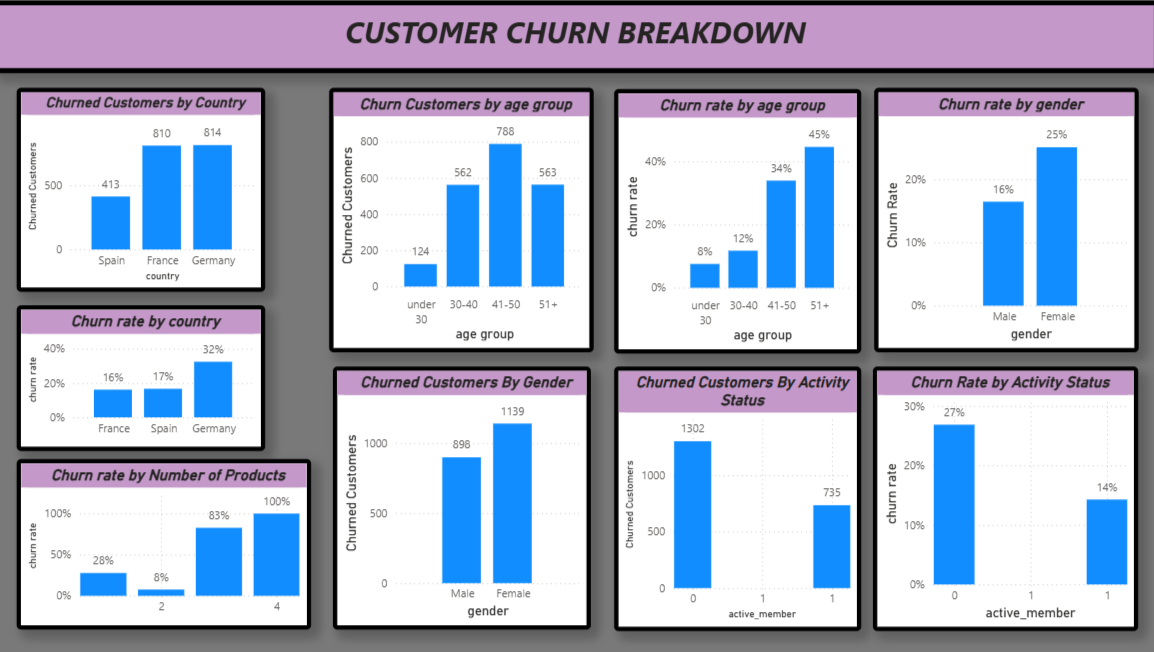

What the dashboard file says about the page in this screenshot:
{"tool":"powerbi","page":{"name":"Customer Analysis","canvas":[1280,720],"ordinal":1},"visuals":[{"type":"clusteredColumnChart","title":"Churned Customers by Country ","fields":{"Category":["Bank Customers.country"],"Y":["Bank Customers.churned customers by country"]},"box":[25.7,95.7,272.9,224.3],"z":0},{"type":"clusteredColumnChart","title":"Churn rate by country","fields":{"Category":["Bank Customers.country"],"Y":["Bank Customers.churn rate"]},"box":[25.7,334.3,272.9,160],"z":1000},{"type":"clusteredColumnChart","title":"Churn Customers by age group","fields":{"Y":["Sum(Bank Customers.churn)"],"Category":["Bank Customers.age group"]},"box":[368.6,95.7,290,290],"z":2000},{"type":"clusteredColumnChart","title":"Churn rate by age group","fields":{"Category":["Bank Customers.age group"],"Y":["Bank Customers.churn rate"]},"box":[681.4,97.1,271.4,290],"z":3000},{"type":"clusteredColumnChart","title":"Churn rate by gender","fields":{"Category":["Bank Customers.gender"],"Y":["Bank Customers.churn rate"]},"box":[967.1,95.7,290,290],"z":4000},{"type":"clusteredColumnChart","title":"Churned Customers By Gender","fields":{"Category":["Bank Customers.gender"],"Y":["Sum(Bank Customers.churn)"]},"box":[372.9,401.4,282.9,288.6],"z":5000},{"type":"clusteredColumnChart","title":"Churn rate by Number of Products","fields":{"Category":["Bank Customers.products_number"],"Y":["Bank Customers.churn rate"]},"box":[25.7,504.3,322.9,187.1],"z":6000},{"type":"clusteredColumnChart","title":"Churned Customers By Activity Status","fields":{"Y":["Sum(Bank Customers.churn)"],"Category":["Bank Customers.active_member"]},"box":[681.4,401.4,271.4,290],"z":7000},{"type":"clusteredColumnChart","title":"Churn Rate by Activity Status","fields":{"Category":["Bank Customers.active_member"],"Y":["Bank Customers.churn rate"]},"box":[965.7,401.4,291.4,290],"z":8000},{"type":"textbox","box":[0,0,1280,80],"z":8001}]}

Visuals, with their boxes in screenshot pixels (x1, y1, x2, y2), scaled from the page's 1280x720 canvas onto the 1154x652 screenshot:
"Churned Customers by Country " clusteredColumnChart: box(23, 87, 269, 290)
"Churn rate by country" clusteredColumnChart: box(23, 303, 269, 448)
"Churn Customers by age group" clusteredColumnChart: box(332, 87, 594, 349)
"Churn rate by age group" clusteredColumnChart: box(614, 88, 859, 351)
"Churn rate by gender" clusteredColumnChart: box(872, 87, 1133, 349)
"Churned Customers By Gender" clusteredColumnChart: box(336, 363, 591, 625)
"Churn rate by Number of Products" clusteredColumnChart: box(23, 457, 314, 626)
"Churned Customers By Activity Status" clusteredColumnChart: box(614, 363, 859, 626)
"Churn Rate by Activity Status" clusteredColumnChart: box(871, 363, 1133, 626)
textbox: box(0, 0, 1153, 72)
